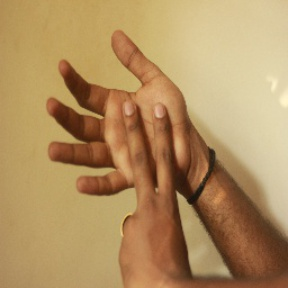N: (39, 23, 195, 248)
